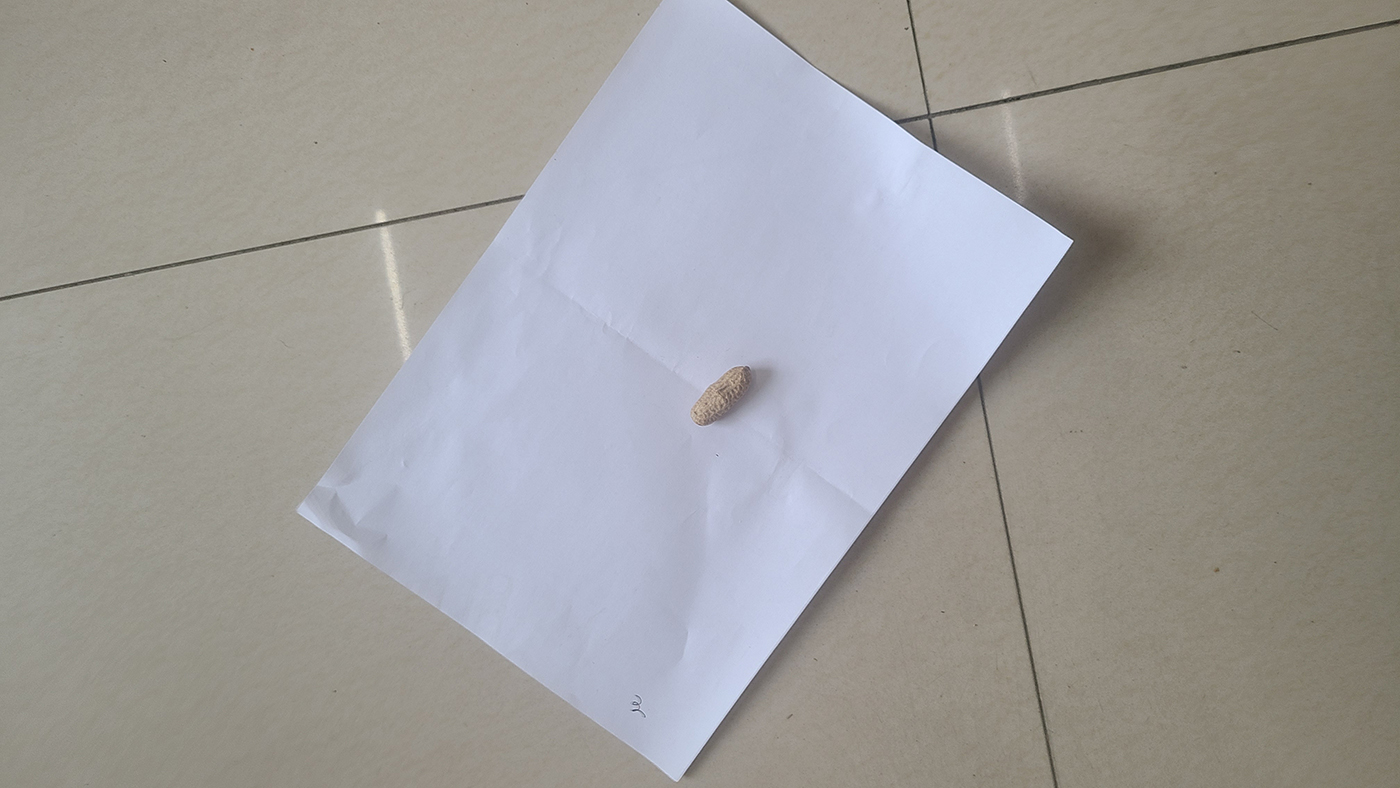h: (690, 365, 752, 426)
